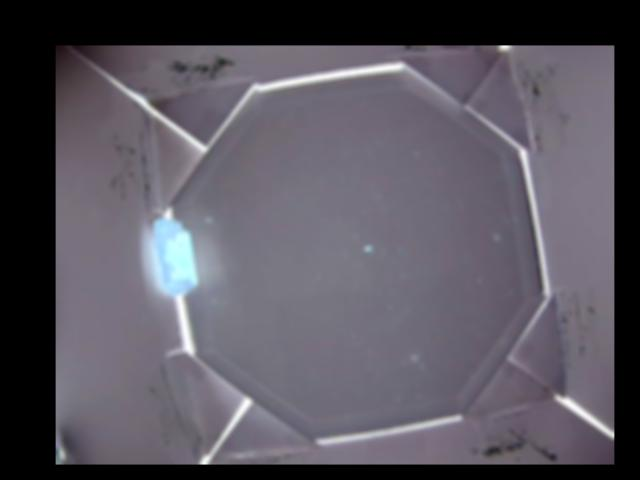Brisk: (152, 218, 200, 297)
